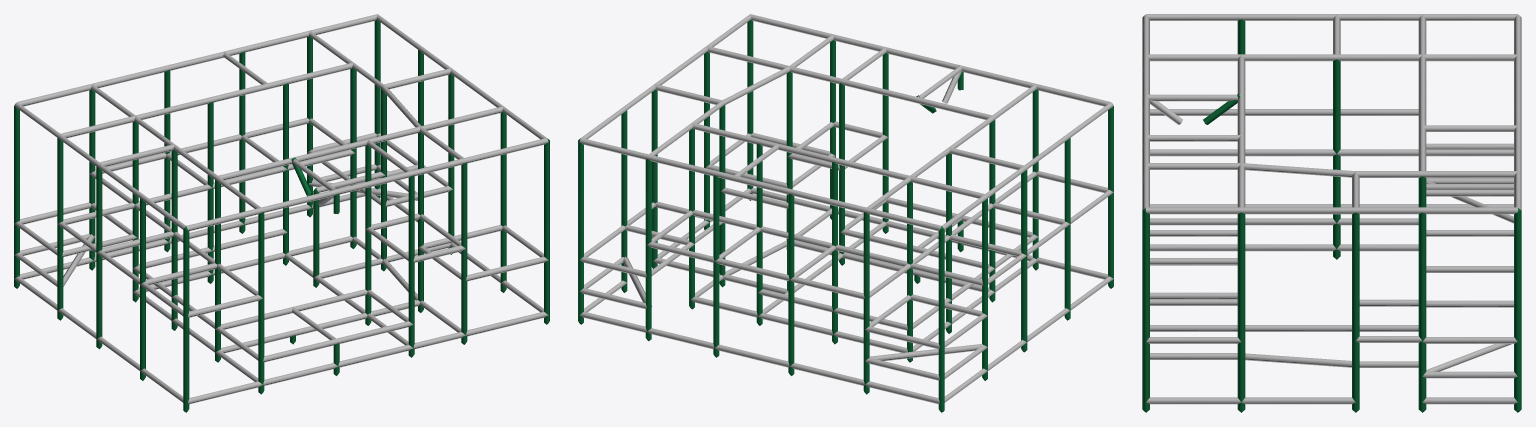
The model's file is frame copy 2.fbx.
3 renders of one model, left to right at view 1: azimuth 30°, elevation 25°; view 2: azimuth 150°, elevation 25°; view 3: azimuth 270°, elevation 25°, orthographic. The views are drawn at different scales.
Visible parts, largest first — view 1: Box004; view 2: Box004; view 3: Box004.
Boxes of the visible parts, left/top/right/bottom form: Box004: left=14, top=14, right=549, bottom=412; Box004: left=578, top=14, right=1113, bottom=412; Box004: left=1142, top=14, right=1521, bottom=412.
Size of the model in its own units: 488 by 239 by 398.
